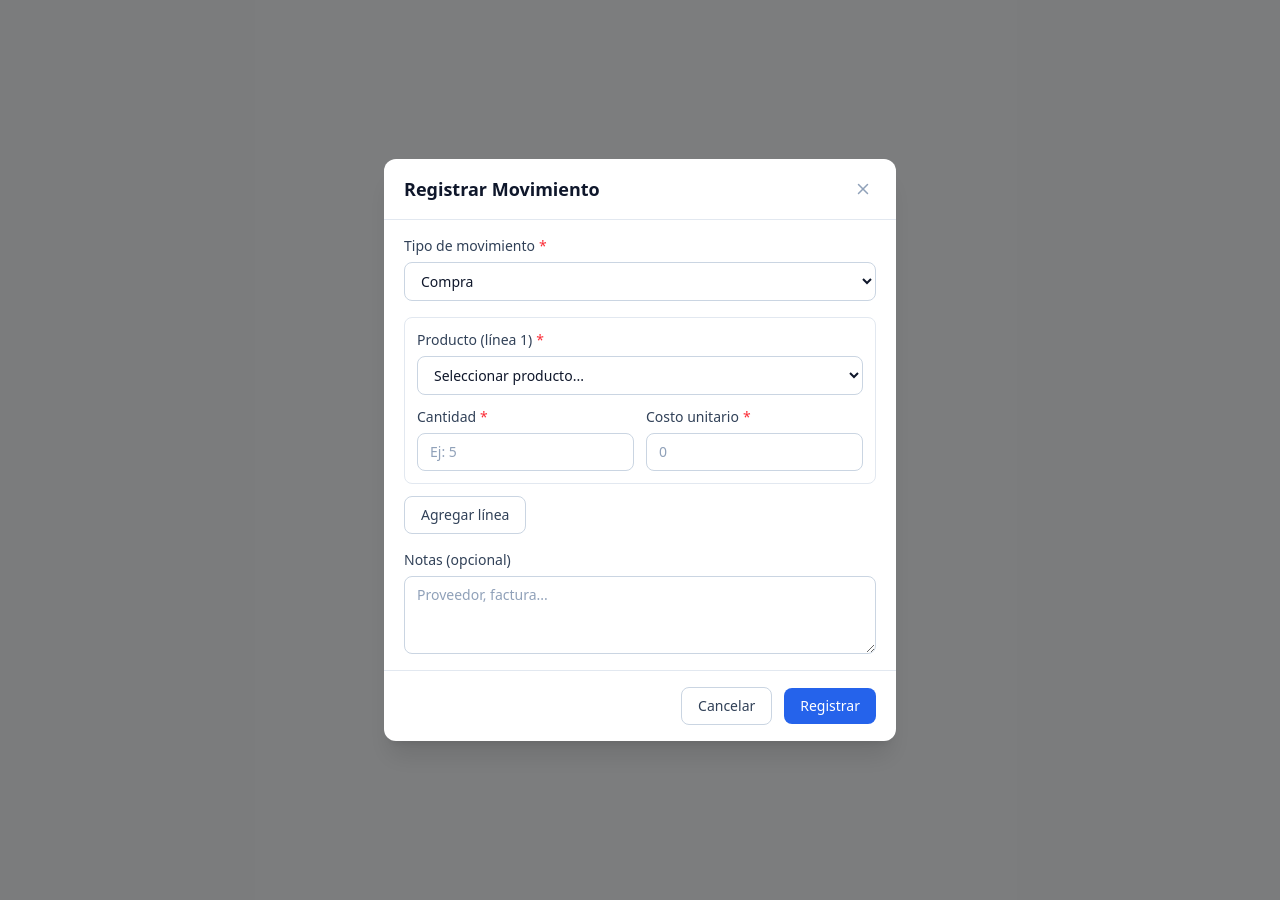
it: MovimientoInventarioModal › Ajuste › avisa si una resta supera el stock conocido (solo ayuda)
Select "Ajuste" in the dropdown named "Tipo de movimiento": (640, 282) 404,262 -> 876,301
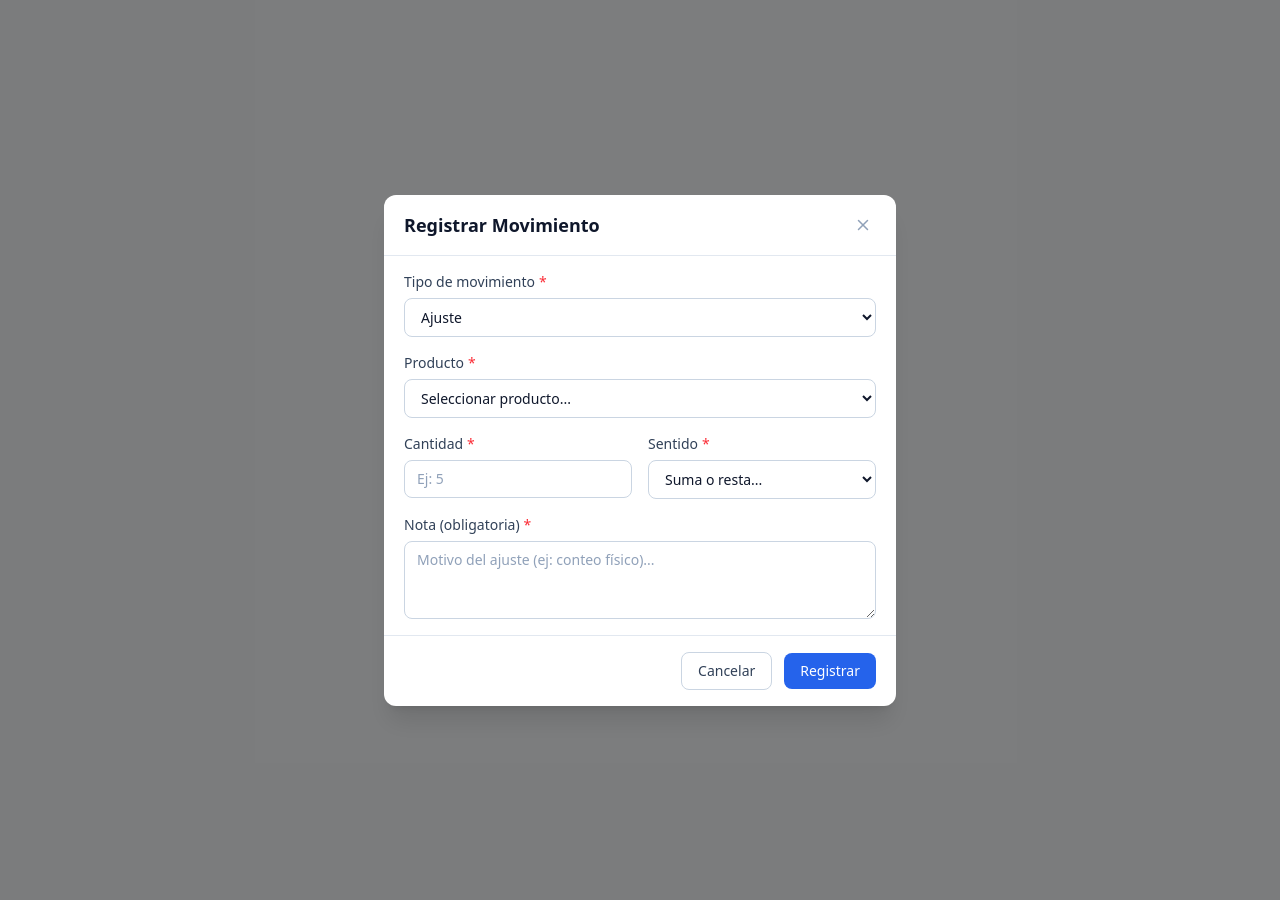
Select "P-1 · Pantalla" in the dropdown named "Producto": (640, 398) 404,378 -> 876,418
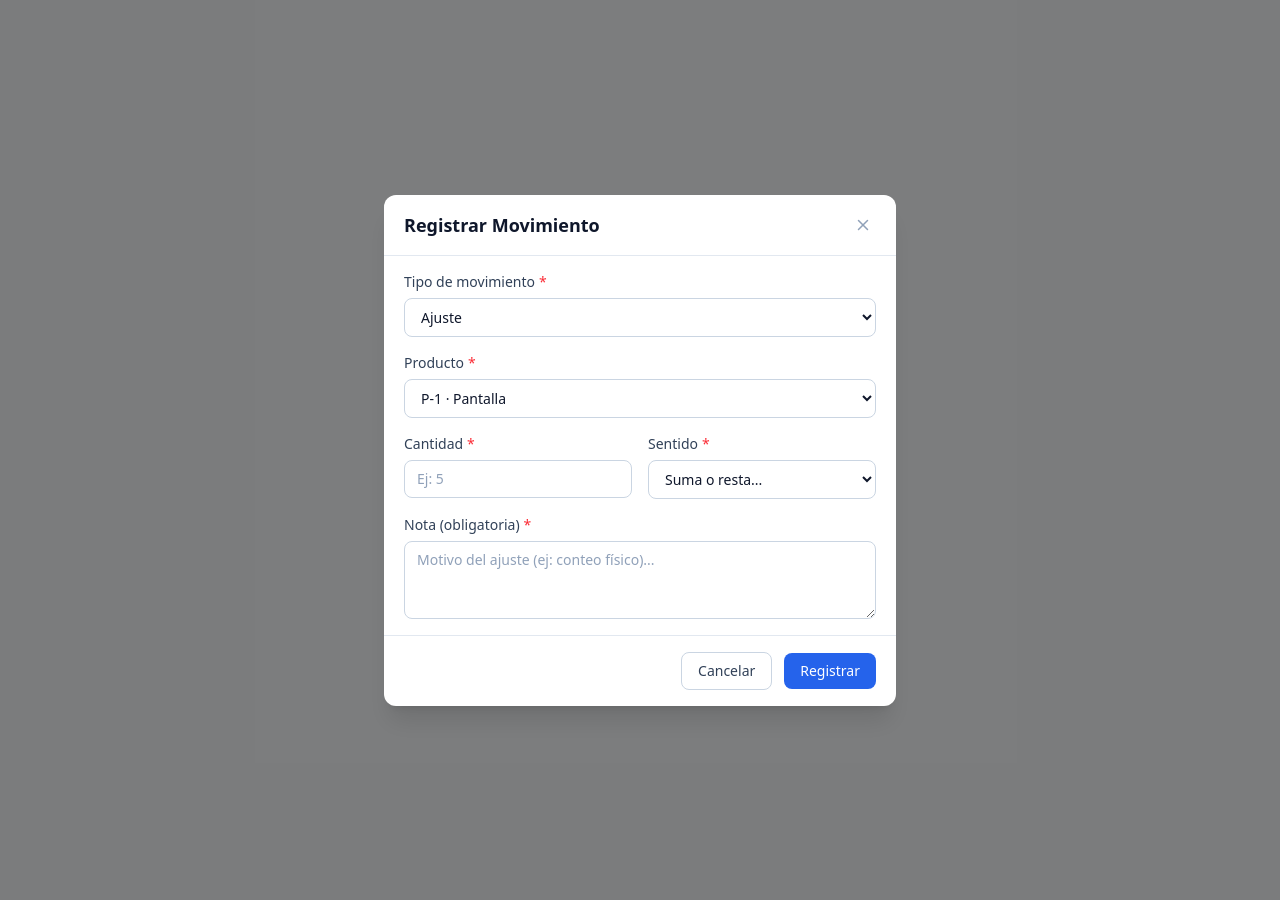
In the number field named "Cantidad": (518, 478) 404,460 -> 632,498, type "9"
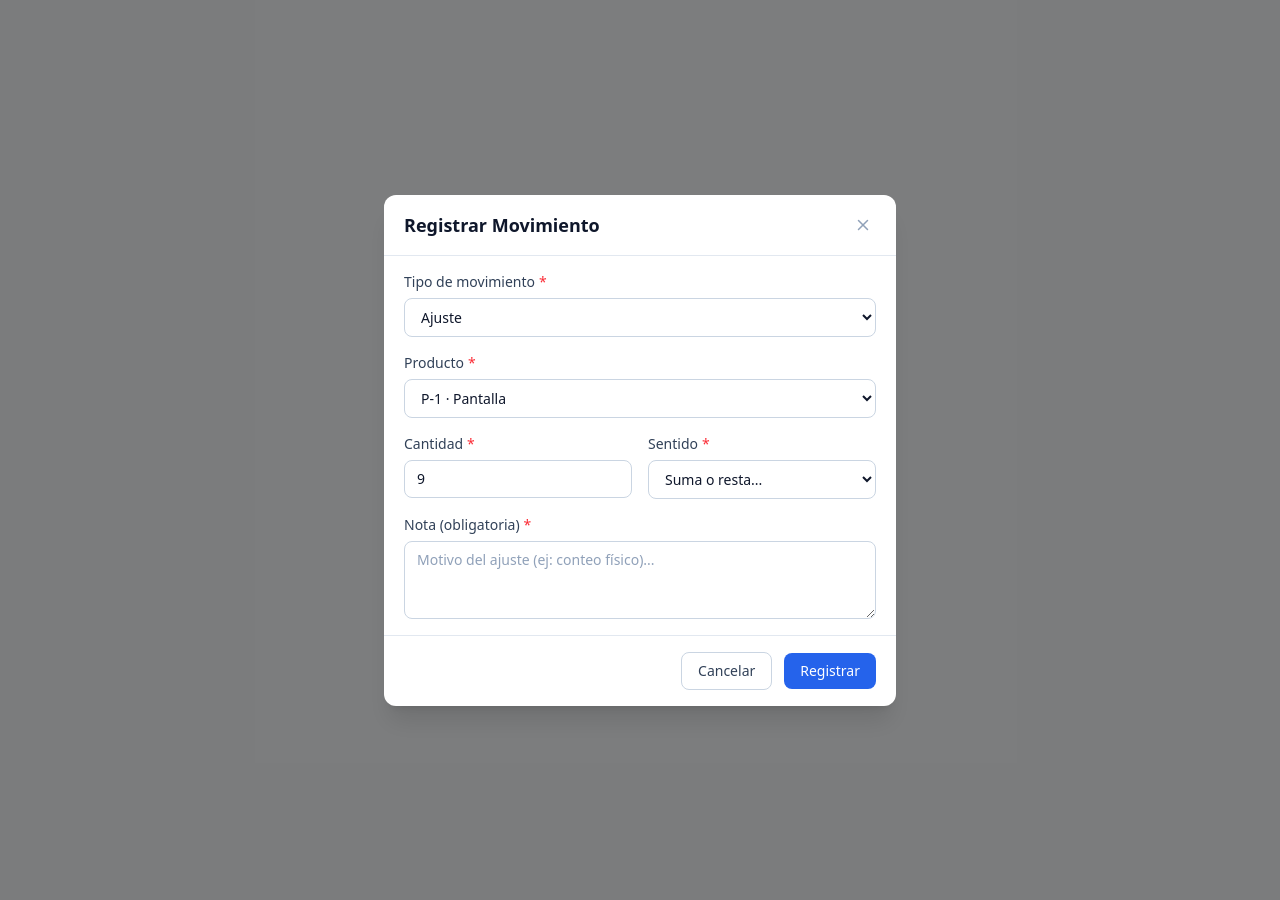
Select "Resta del stock" in the dropdown named "Sentido": (762, 479) 648,460 -> 876,498
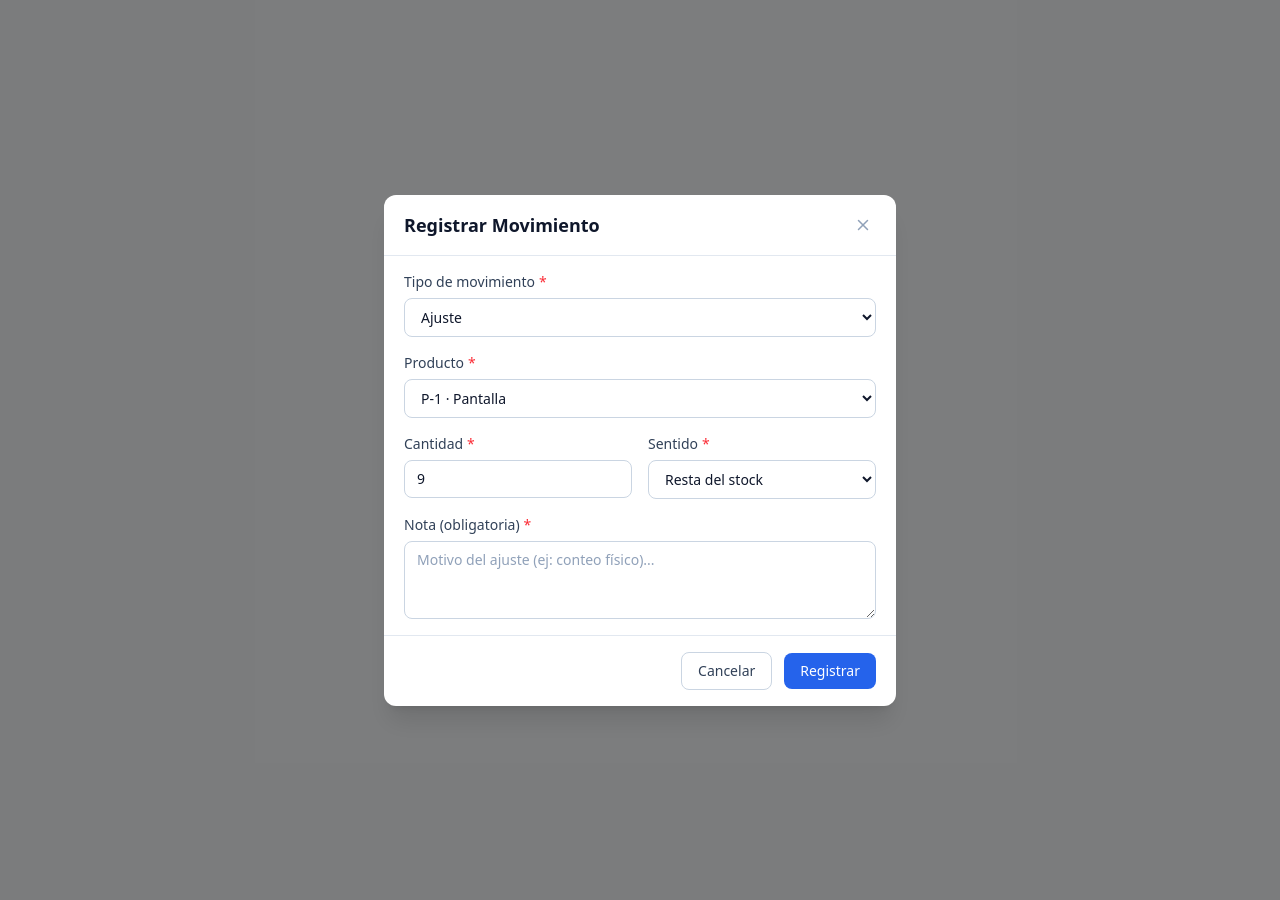
In the text box named "Nota": (640, 580) 404,540 -> 876,618, type "x"
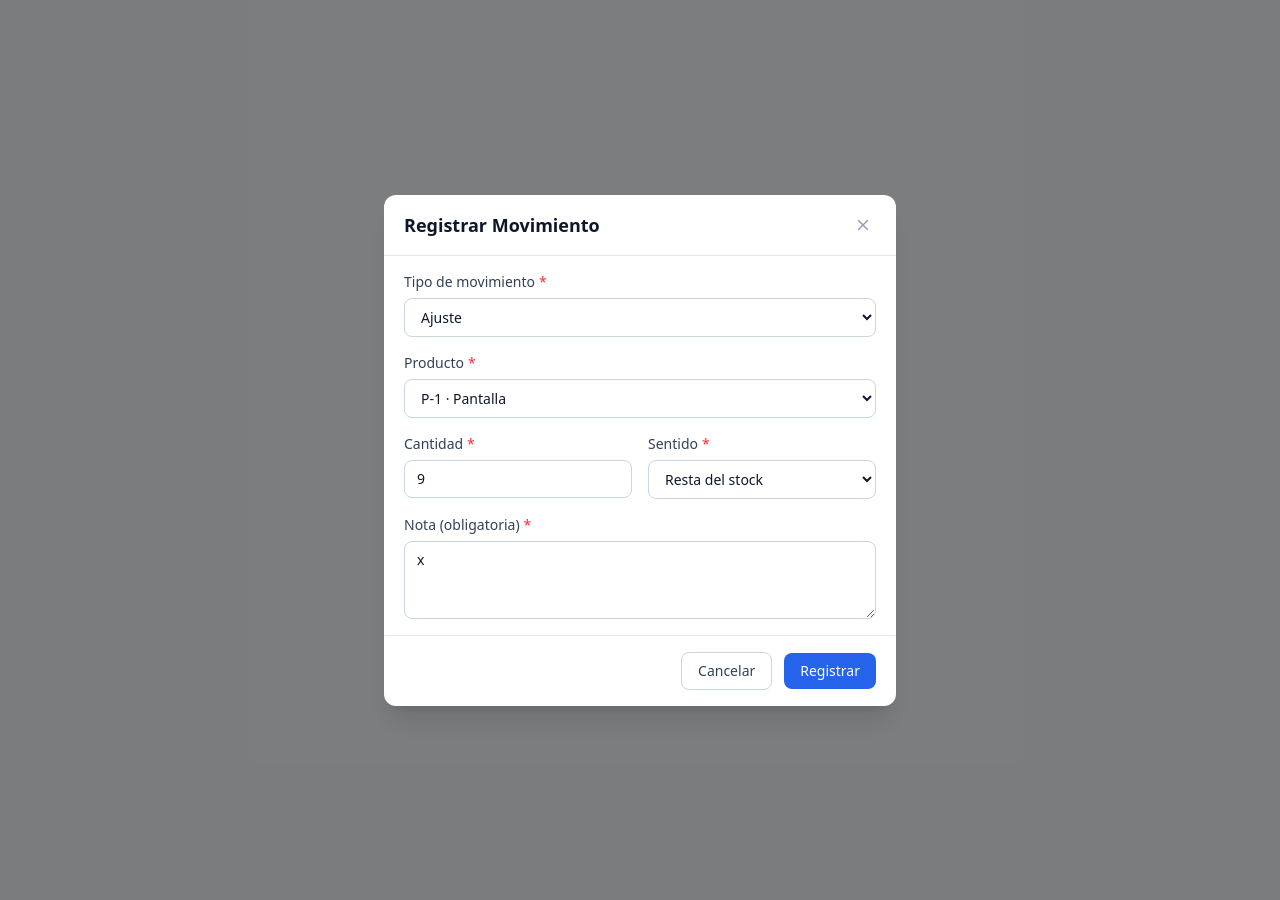
Click the button "Registrar": (830, 670) 784,652 -> 876,688
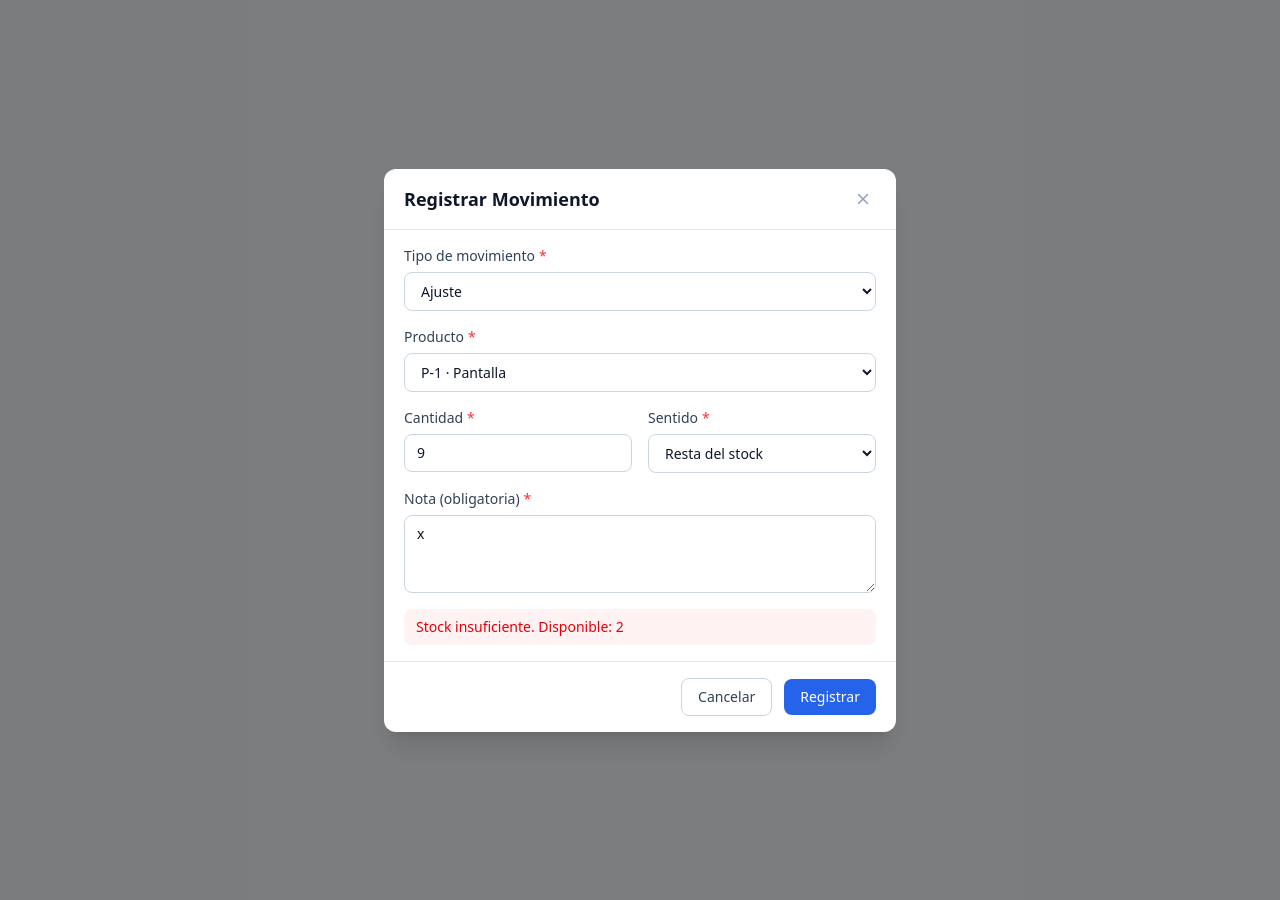
Check: the message reads "Stock insuficiente. Disponible: 2", box 416,616 -> 624,636
